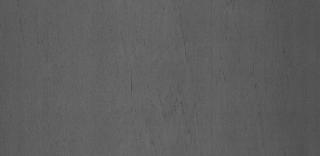silk spot: (110, 35, 234, 148)
